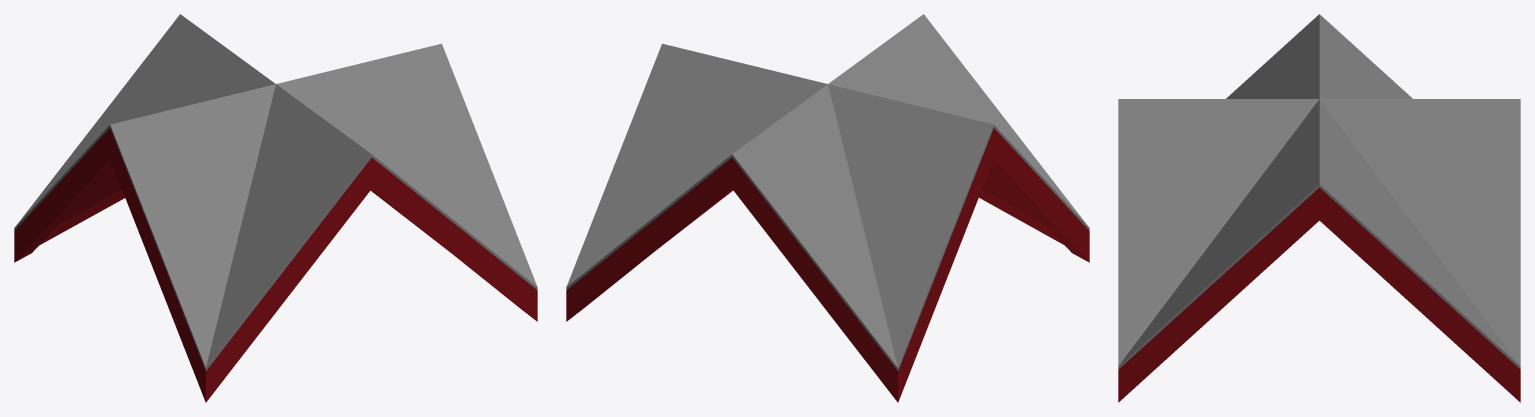
The model's file is SM_MH_01_Slate_Roof_Top_Cross_01.fbx.
3 views of the same model, side by side, from view 1: azimuth 30°, elevation 25°; view 2: azimuth 150°, elevation 25°; view 3: azimuth 270°, elevation 25° (orthographic). The views are drawn at different scales.
Visible parts, largest first — view 1: SM_MH_01_Slate_Roof_Top_Cross_01_LOD0; view 2: SM_MH_01_Slate_Roof_Top_Cross_01_LOD0; view 3: SM_MH_01_Slate_Roof_Top_Cross_01_LOD0.
Part boxes in pixels (x1,y1,x2,y2): SM_MH_01_Slate_Roof_Top_Cross_01_LOD0: (14, 14, 537, 402); SM_MH_01_Slate_Roof_Top_Cross_01_LOD0: (566, 14, 1089, 402); SM_MH_01_Slate_Roof_Top_Cross_01_LOD0: (1118, 14, 1520, 402).
Size of what is drawn, in the model's own units: 300 by 180 by 300.
